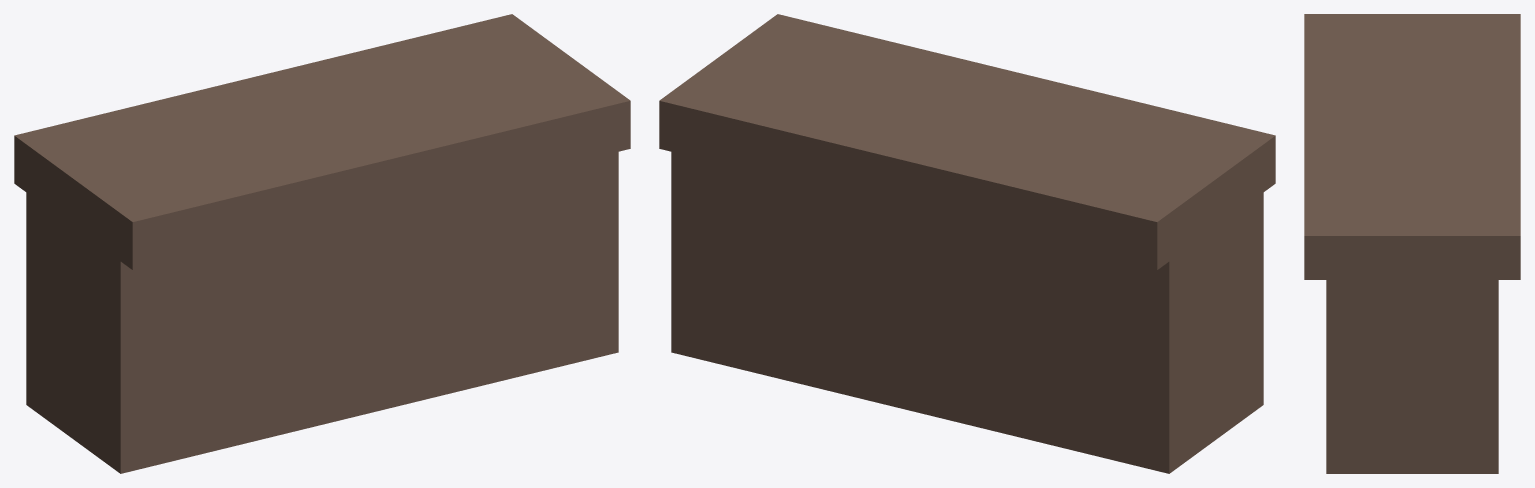
File: wall.glb
The picture shows the model from 3 angles, left to right: view 1: azimuth 30°, elevation 25°; view 2: azimuth 150°, elevation 25°; view 3: azimuth 270°, elevation 25°; orthographic projection. The views are drawn at different scales.
Parts seen in each view (by area): view 1: roof wall; view 2: roof wall; view 3: roof wall.
Boxes of the visible parts, left/top/right/bottom form: roof wall: left=14, top=14, right=630, bottom=473; roof wall: left=659, top=14, right=1275, bottom=473; roof wall: left=1304, top=14, right=1520, bottom=473.
Bounding box in the file's own units: 2 × 1 × 0.8241.
